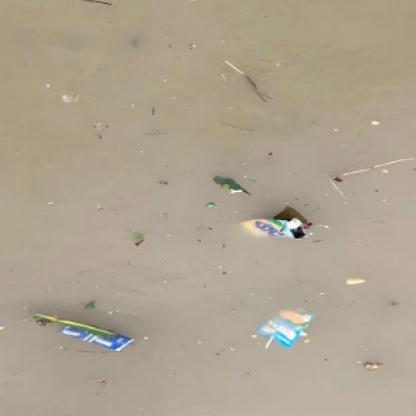Trash: (30, 306, 134, 356), (241, 204, 309, 246), (256, 306, 318, 351)
